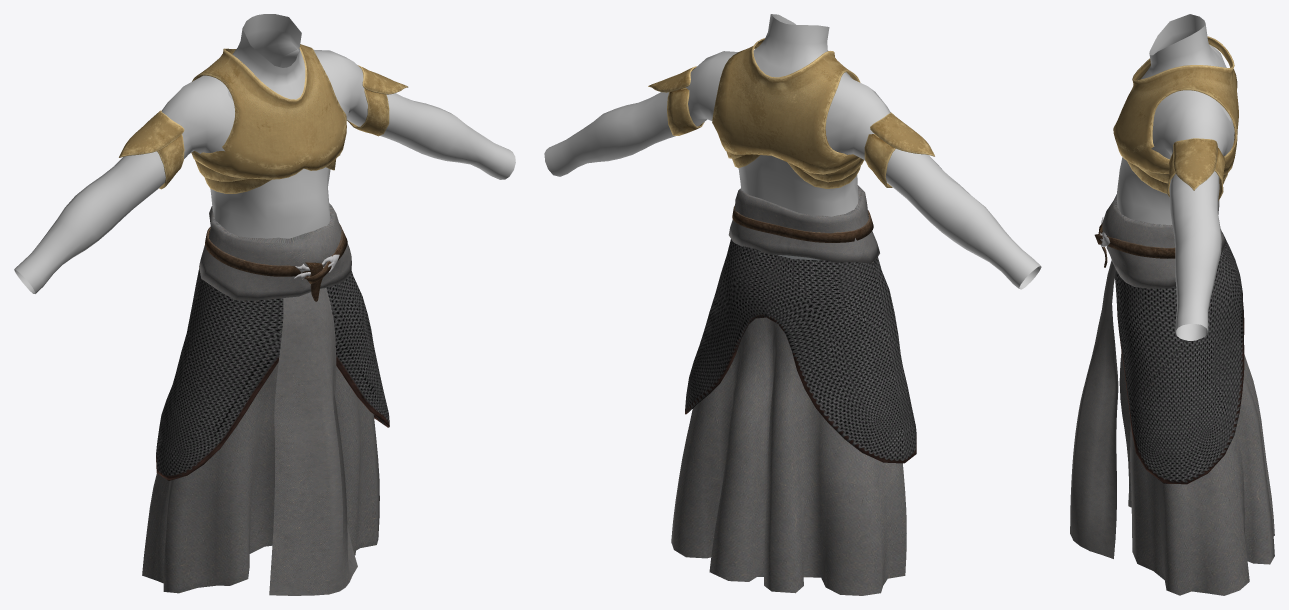
Rendered from rivendell_torso_light_armored_tier2.fbx.
The picture shows the model from 3 angles, left to right: view 1: azimuth 30°, elevation 25°; view 2: azimuth 150°, elevation 25°; view 3: azimuth 270°, elevation 25°; orthographic projection. The views are drawn at different scales.
Parts seen in each view (by area): view 1: rivendell_torso_light_armored_tier2.5, rivendell_torso_light_armored_tier2.4, rivendell_torso_light_armored_tier2.1, rivendell_torso_light_armored_tier2.3, rivendell_torso_light_armored_tier2.2, rivendell_torso_light_armored_tier2.0; view 2: rivendell_torso_light_armored_tier2.1, rivendell_torso_light_armored_tier2.3, rivendell_torso_light_armored_tier2.5, rivendell_torso_light_armored_tier2.2, rivendell_torso_light_armored_tier2.4, rivendell_torso_light_armored_tier2.0; view 3: rivendell_torso_light_armored_tier2.3, rivendell_torso_light_armored_tier2.1, rivendell_torso_light_armored_tier2.5, rivendell_torso_light_armored_tier2.4, rivendell_torso_light_armored_tier2.2, rivendell_torso_light_armored_tier2.0.
Part boxes in pixels (bbox=[...]): rivendell_torso_light_armored_tier2.5: bbox=[14, 14, 515, 293]; rivendell_torso_light_armored_tier2.4: bbox=[199, 203, 357, 595]; rivendell_torso_light_armored_tier2.1: bbox=[142, 362, 379, 593]; rivendell_torso_light_armored_tier2.3: bbox=[156, 268, 389, 480]; rivendell_torso_light_armored_tier2.2: bbox=[191, 44, 346, 193]; rivendell_torso_light_armored_tier2.0: bbox=[119, 65, 408, 189]; rivendell_torso_light_armored_tier2.1: bbox=[671, 254, 906, 595]; rivendell_torso_light_armored_tier2.3: bbox=[685, 239, 916, 463]; rivendell_torso_light_armored_tier2.5: bbox=[544, 14, 1041, 289]; rivendell_torso_light_armored_tier2.2: bbox=[712, 38, 863, 188]; rivendell_torso_light_armored_tier2.4: bbox=[728, 185, 879, 263]; rivendell_torso_light_armored_tier2.0: bbox=[648, 66, 934, 187]; rivendell_torso_light_armored_tier2.3: bbox=[1115, 232, 1244, 484]; rivendell_torso_light_armored_tier2.1: bbox=[1119, 351, 1274, 595]; rivendell_torso_light_armored_tier2.5: bbox=[1117, 14, 1234, 340]; rivendell_torso_light_armored_tier2.4: bbox=[1070, 194, 1226, 558]; rivendell_torso_light_armored_tier2.2: bbox=[1113, 36, 1238, 193]; rivendell_torso_light_armored_tier2.0: bbox=[1166, 138, 1225, 201].
Bounding box in the file's own units: 1.38 × 0.5129 × 1.46.
